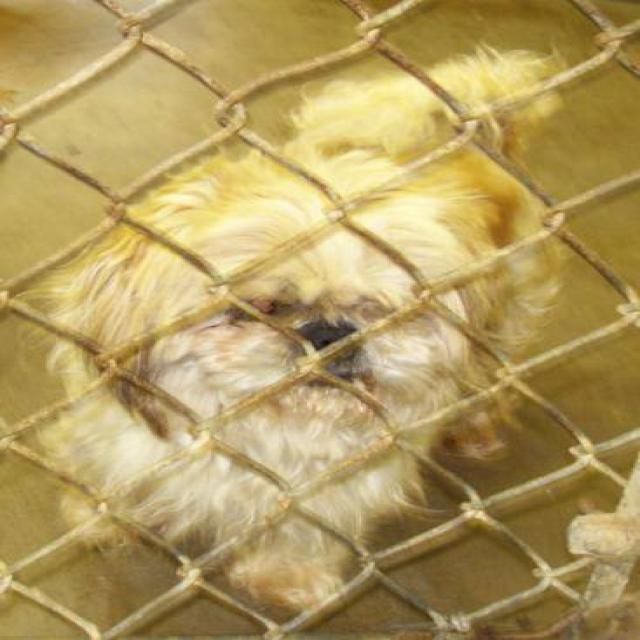dog: (5, 40, 569, 613)
